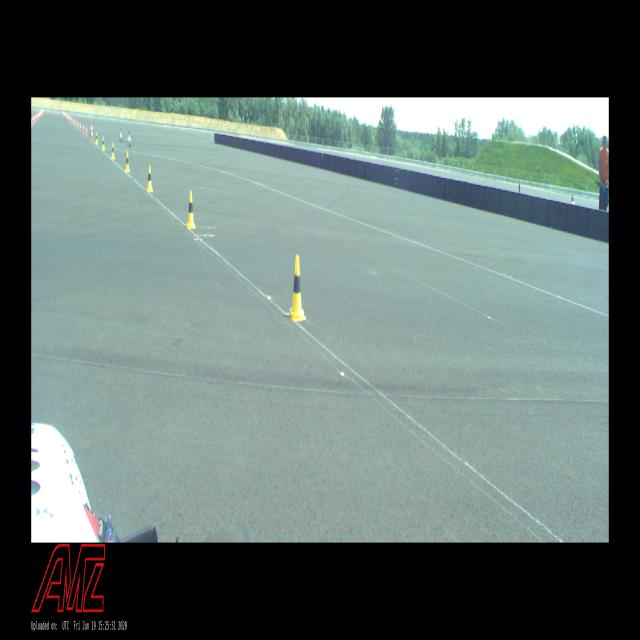large_orange_cone: (90, 122, 94, 140)
orange_cone: (82, 124, 85, 133), (91, 129, 93, 140), (86, 126, 88, 136), (79, 123, 81, 130), (32, 117, 32, 124)
yellow_cone: (288, 255, 306, 321), (187, 191, 196, 229), (146, 166, 153, 191), (124, 152, 130, 172), (110, 142, 116, 158), (102, 136, 105, 150), (95, 132, 98, 144)
